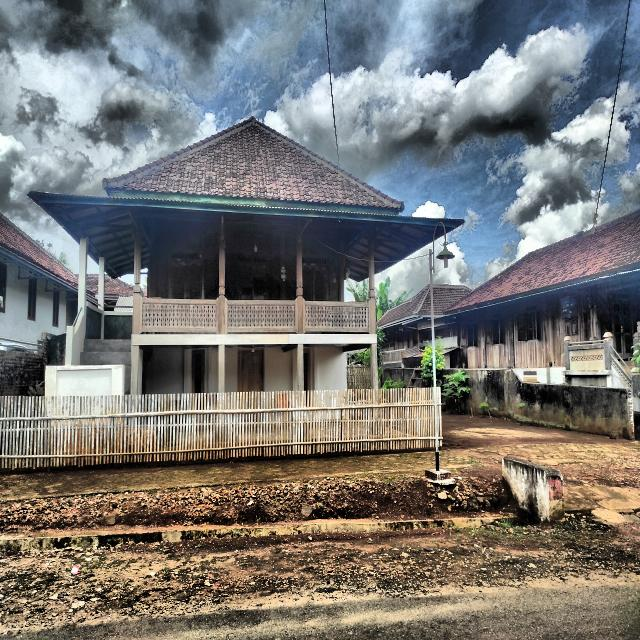column: (77, 237, 89, 339), (130, 346, 143, 408), (370, 344, 379, 412), (133, 223, 141, 293), (219, 215, 226, 294), (297, 344, 304, 418), (368, 229, 375, 298), (297, 226, 303, 296), (219, 345, 224, 424), (98, 257, 105, 311)
door: (237, 348, 264, 423)
ornamen: (142, 298, 216, 333), (227, 300, 295, 332), (305, 301, 369, 332)
roof: (27, 116, 464, 282), (428, 210, 640, 321), (373, 284, 472, 331)
stair: (80, 339, 132, 395)
wall: (146, 226, 348, 429), (458, 273, 640, 369)
window: (191, 350, 205, 413), (301, 348, 311, 411)
